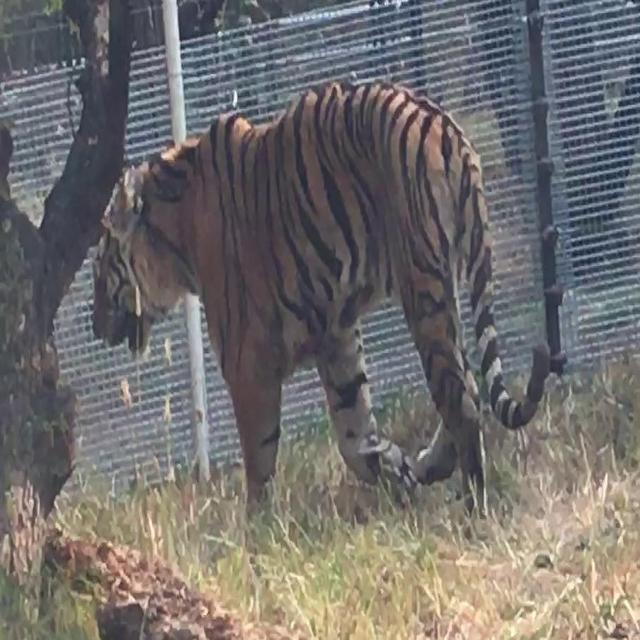tiger: (90, 77, 551, 526)
